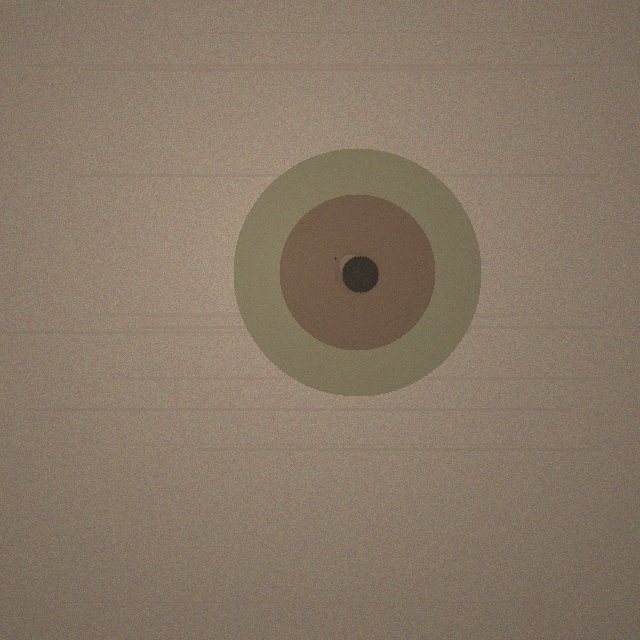shrinkage: (233, 148, 481, 396)
